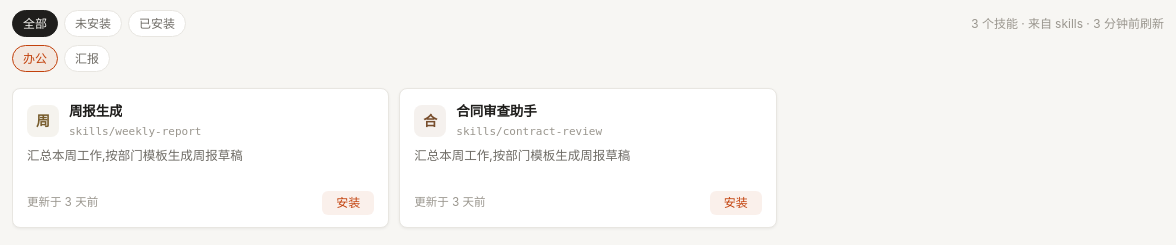
Test case: 标签筛选(M5 任务 3) › 单选:点另一枚直接切换,不做多选并集
The image size is (1176, 245).
Click the button "汇报". click: (87, 59)
box: [64,45,110,72]
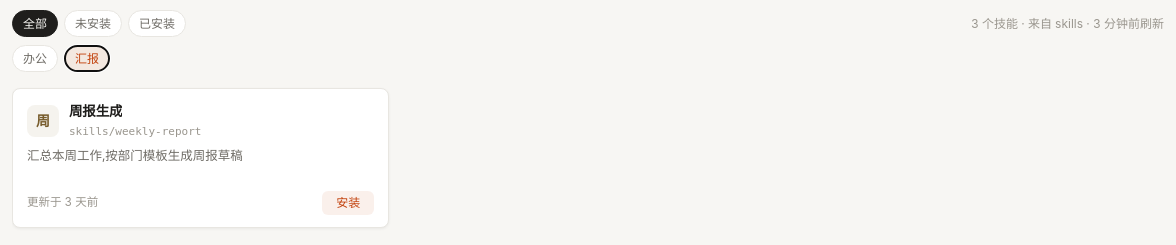
Expected: the text "周报生成" is shown, [69,101,122,123]
Result: the button "合同审查助手" is gone
